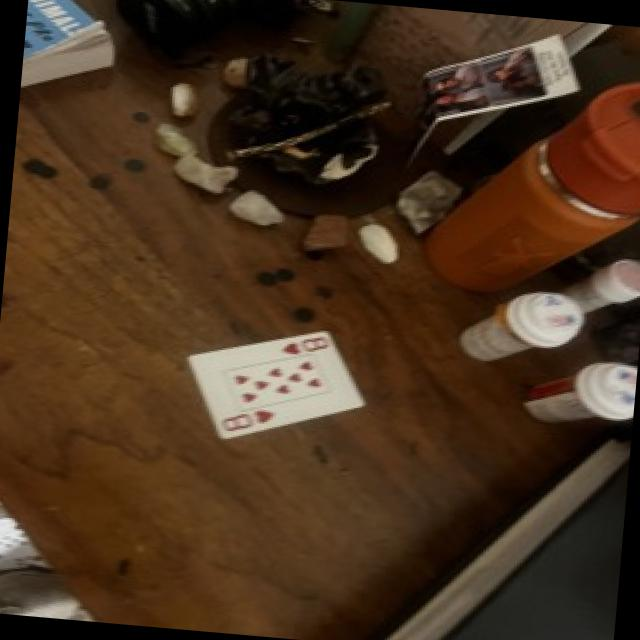8 of hearts: (188, 331, 363, 438)
